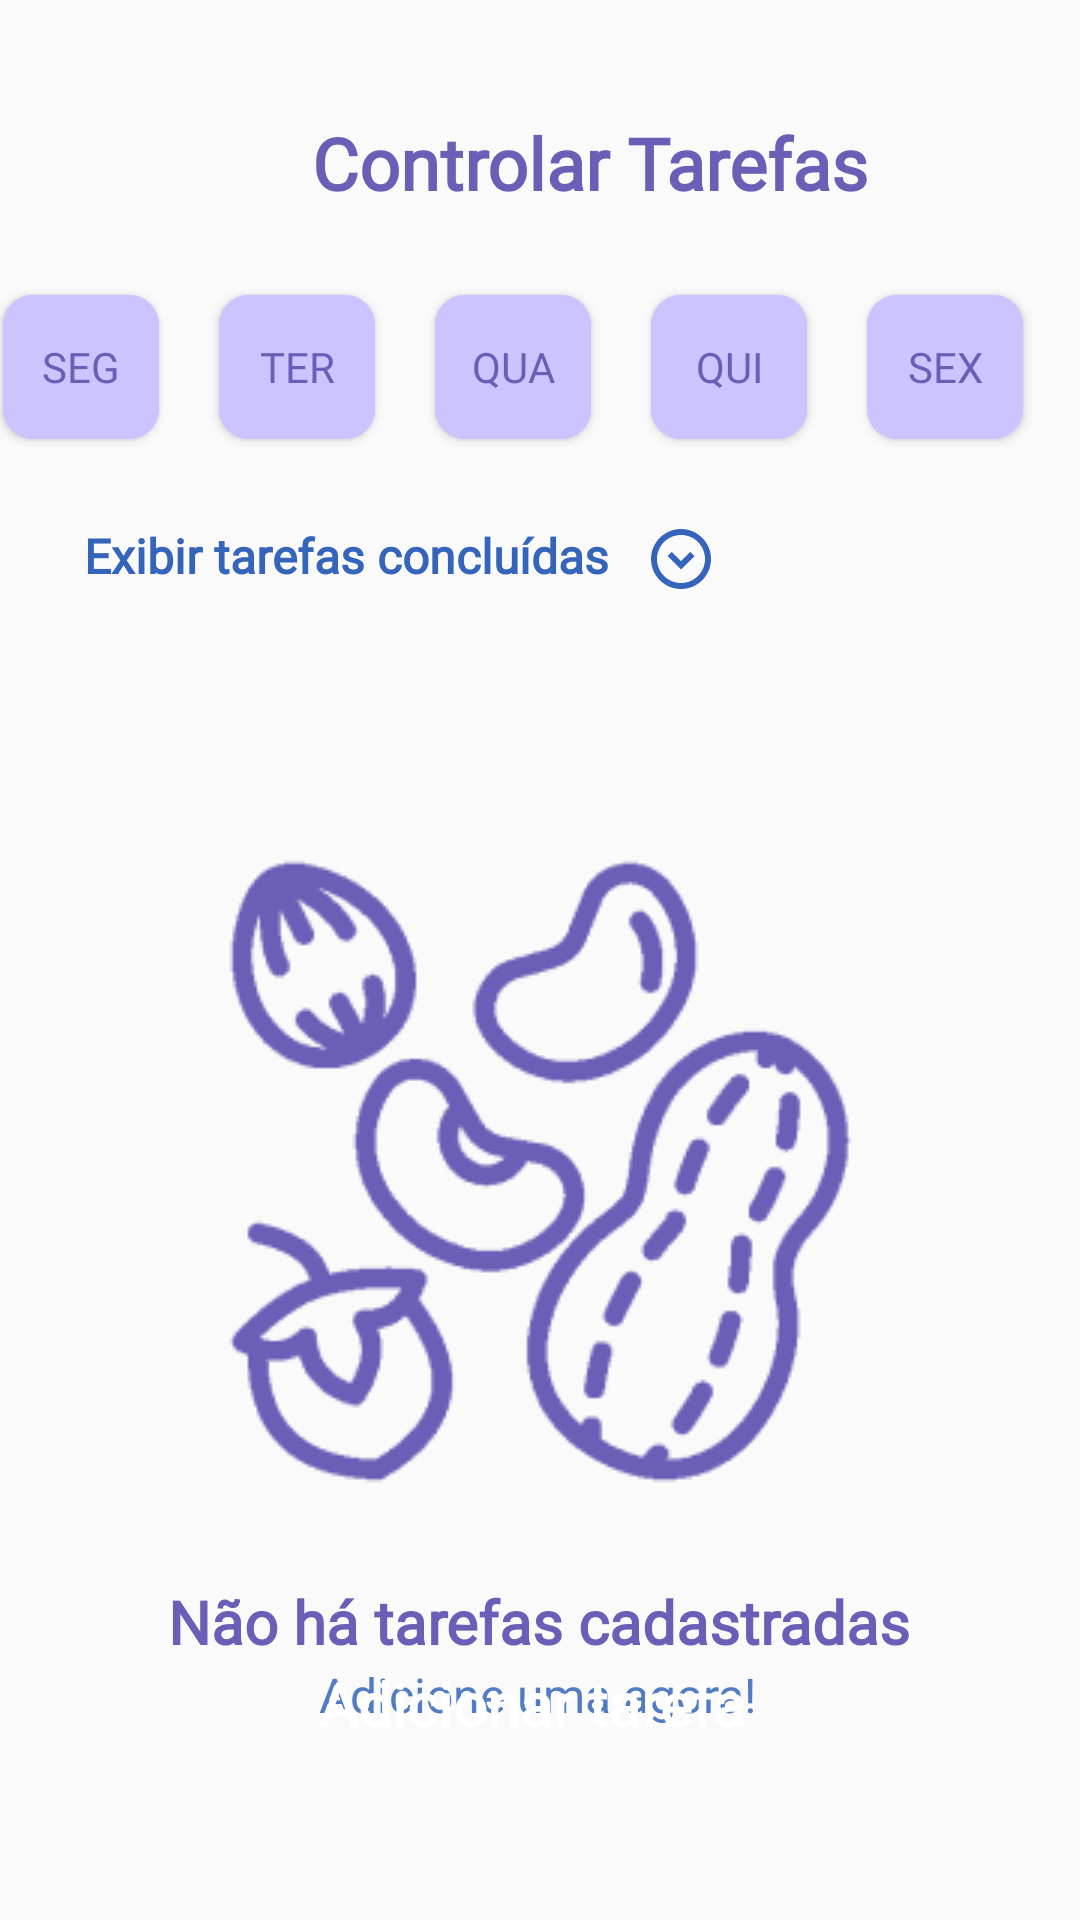

Locate icon controls on the screen. Image size 1080w x 1920h, boxes as bbox(x1, y1, x2, y2).
botao expansivel: bbox(651, 529, 711, 589)
